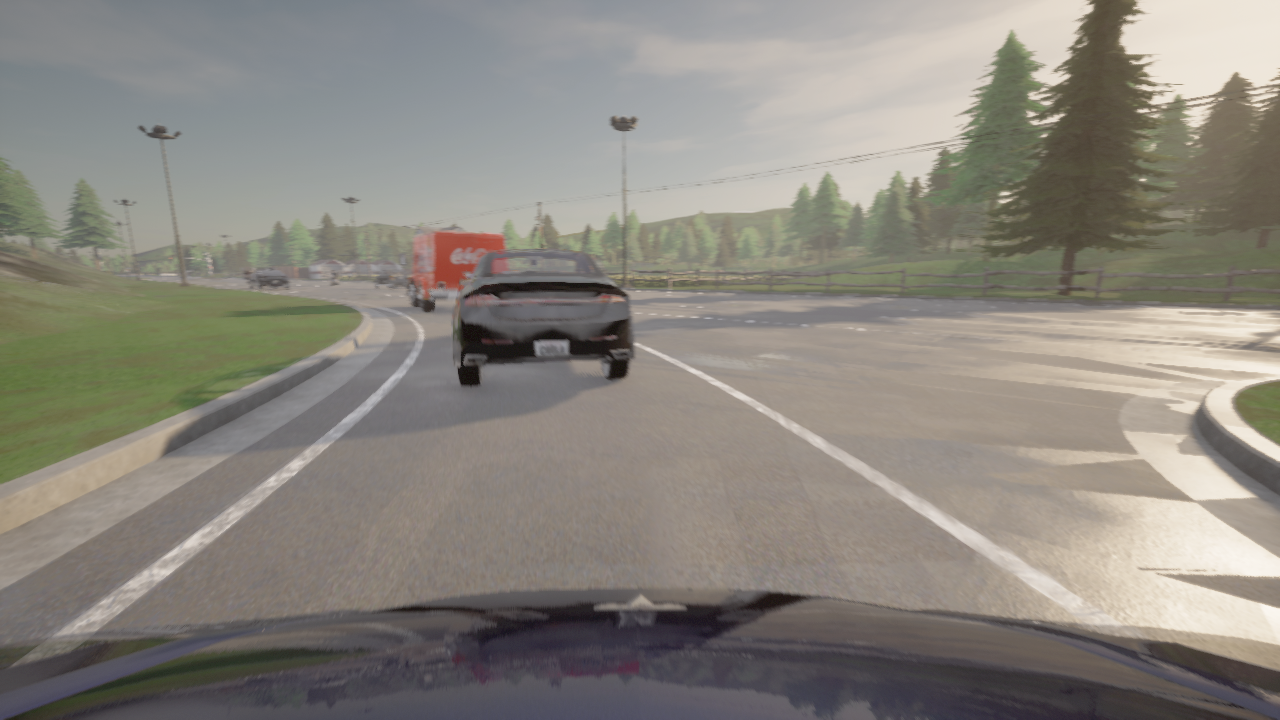cyclist: (0, 588, 1279, 719), (452, 248, 633, 386), (400, 230, 505, 311), (248, 268, 288, 289), (374, 269, 409, 288), (329, 274, 337, 285)
